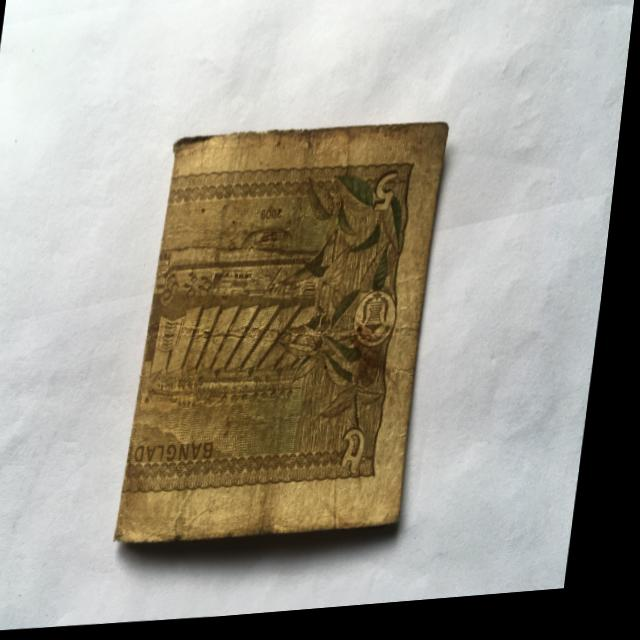Taka: (127, 113, 461, 562)
